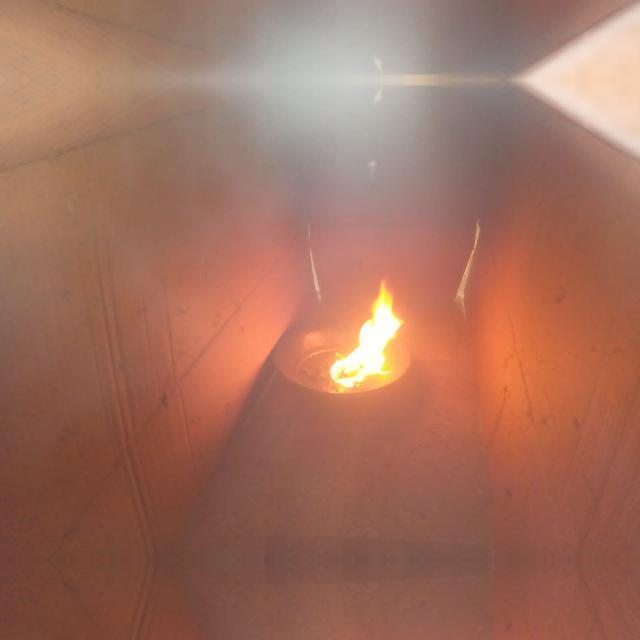smoke: (330, 280, 405, 389)
